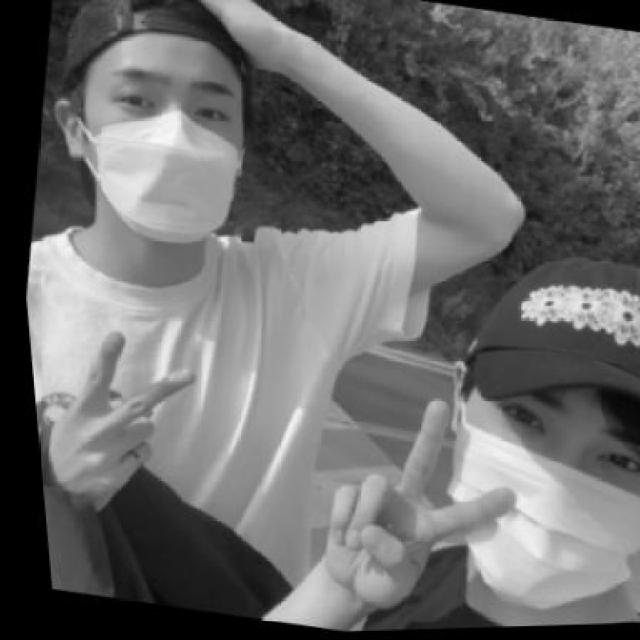hat: (441, 240, 640, 436), (46, 0, 274, 123)
